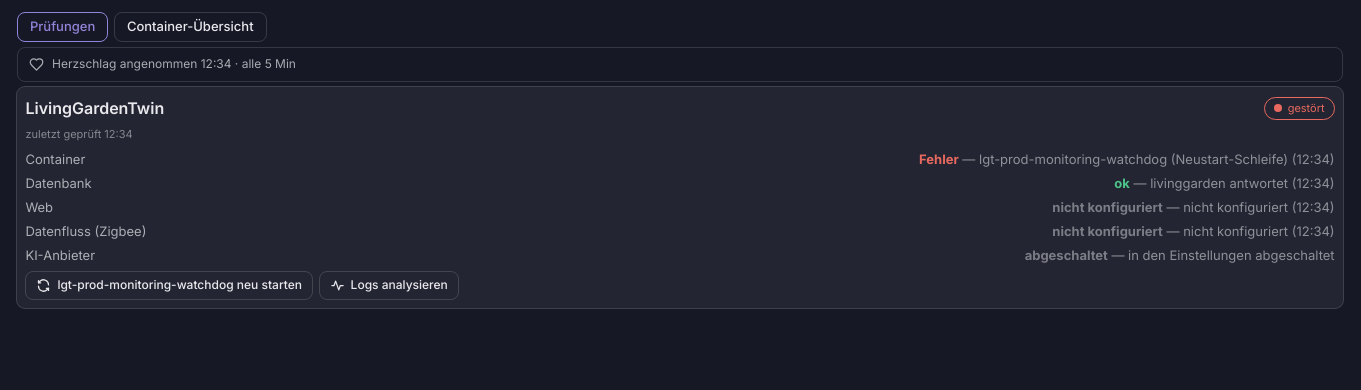
Test case: Zustandsseite (req-032) › AC (req-035): der Knopf startet die Analyse, das Ergebnis steht auf derselben Karte
Click the button "Logs analysieren": (389, 286) [319,271,459,300]
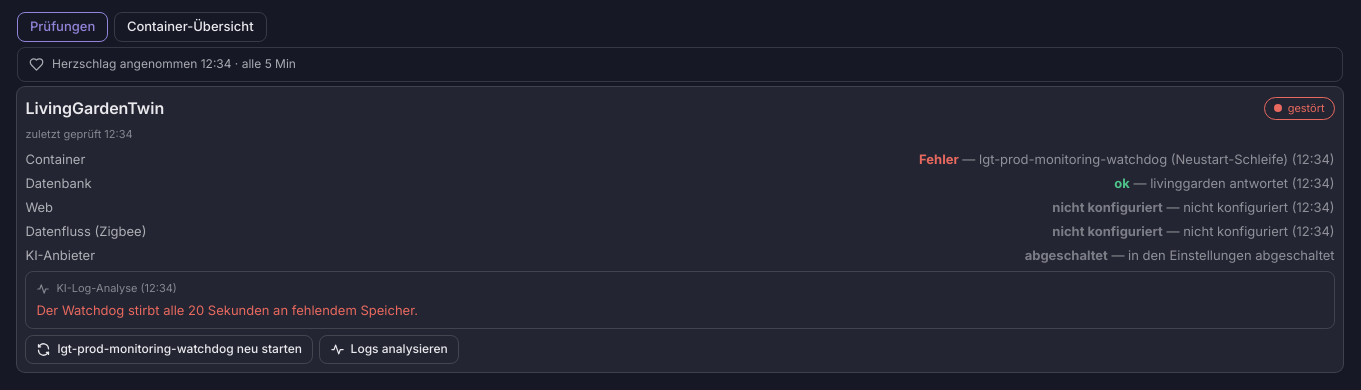
Result: the text "Der Watchdog stirbt alle 20 Sekunden an fehlendem Speicher." is shown at [36,302,418,318]
Result: the text "KI-Log-Analyse (12:34)" is shown at [56,280,177,297]
